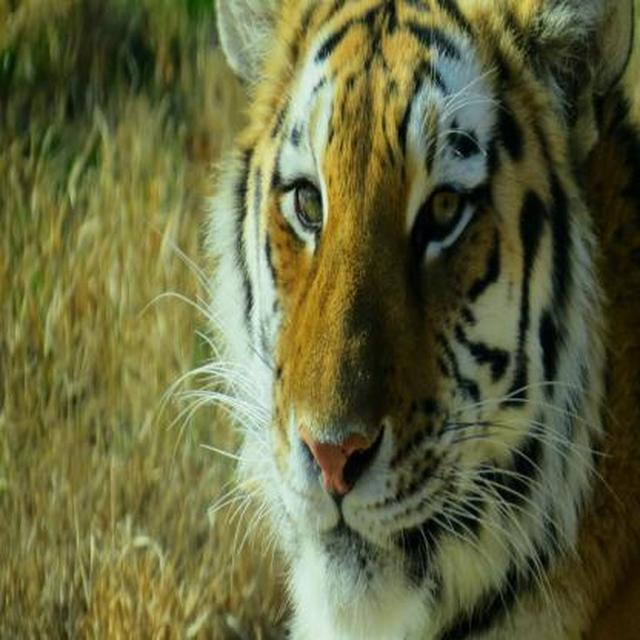tiger: (155, 0, 639, 639)
